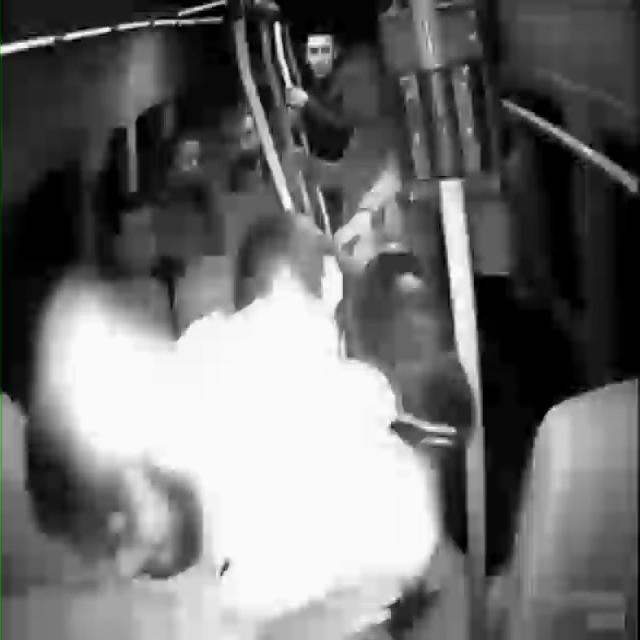fight: (270, 12, 362, 236)
